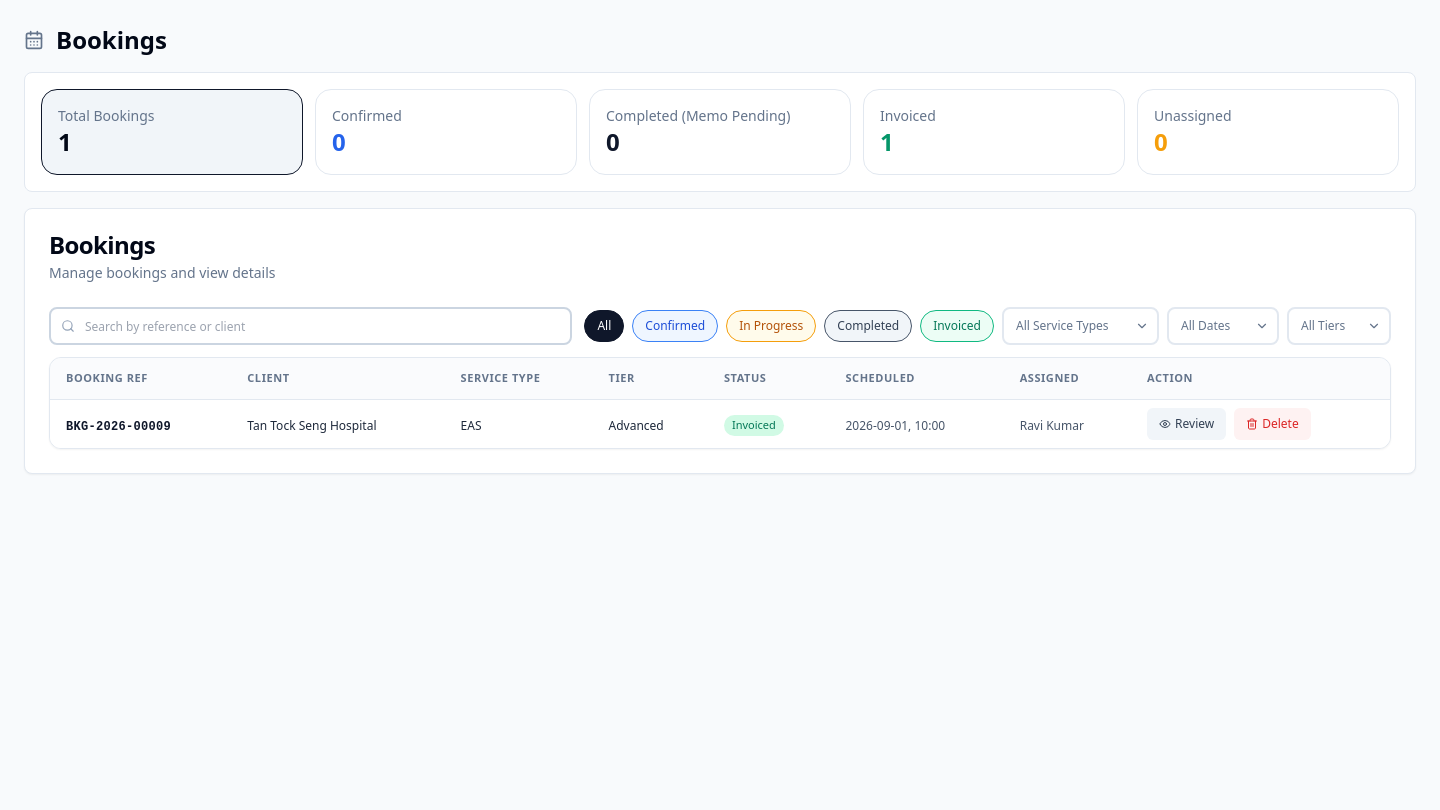
Test: BookingListPage - delete flow › clicking Delete opens a confirmation dialog naming the linked records, and Cancel leaves the row intact
Expected: the text "BKG-2026-00009" is shown, x1=66 y1=420 x2=171 y2=434
Click the button "Delete": (1272, 424) x1=1234 y1=408 x2=1311 y2=440
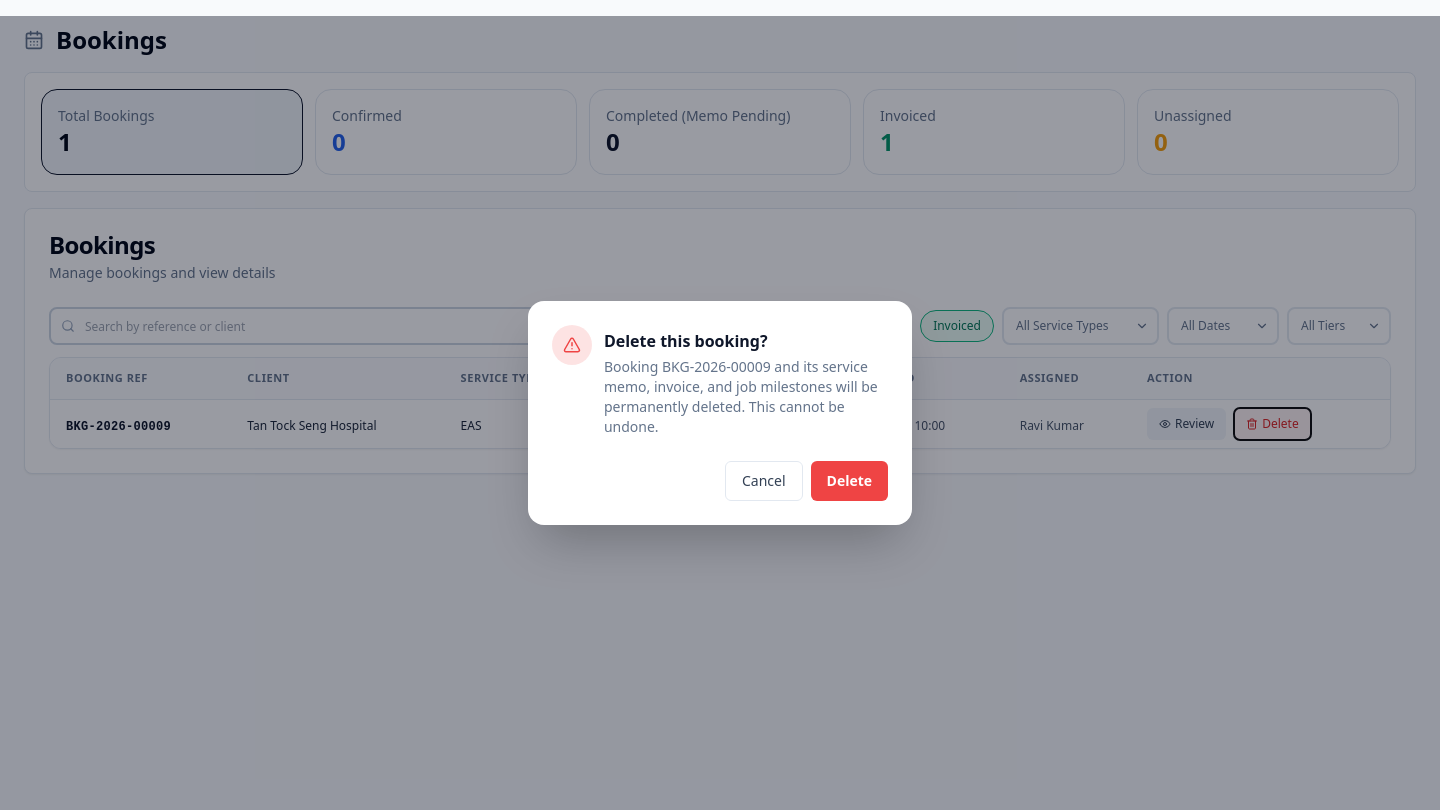
Now the text "Delete this booking?" is shown, box x1=604 y1=330 x2=768 y2=352
Now the text "Booking BKG-2026-00009 and its service memo, invoice, and job milestones will be permanently deleted" is shown, box x1=604 y1=357 x2=878 y2=436
Click the button "Cancel": (764, 481) x1=725 y1=461 x2=802 y2=501
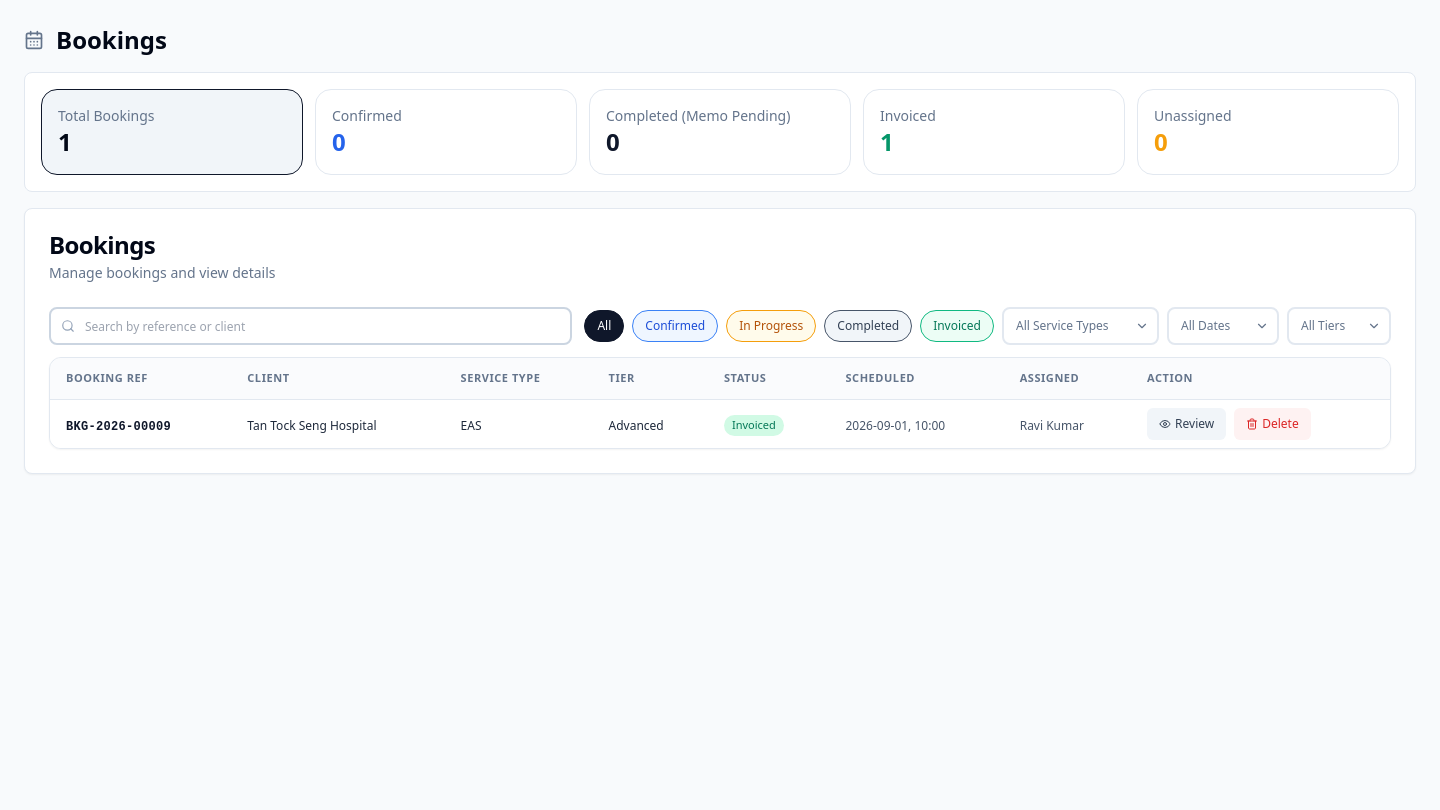
Expected: the text "BKG-2026-00009" is shown, x1=66 y1=420 x2=171 y2=434
Now the text "Delete this booking?" is gone
